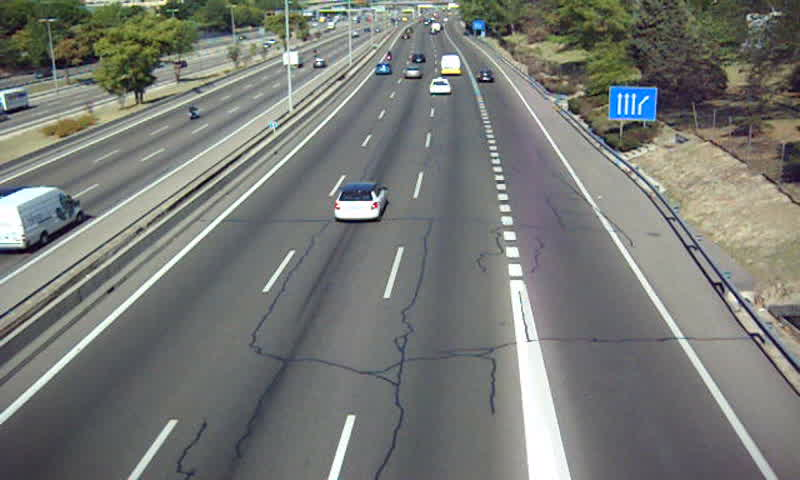car: (333, 182, 386, 220), (428, 79, 453, 96), (475, 70, 494, 84), (374, 63, 393, 77)
van: (440, 54, 461, 74)
